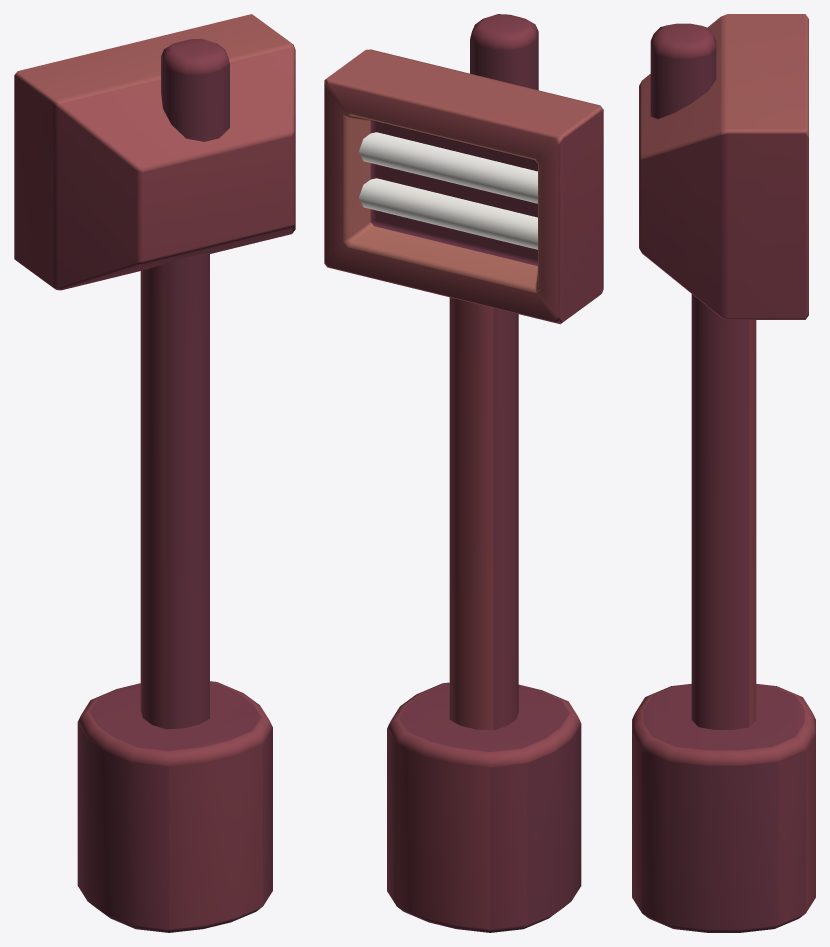
Rendered from Factory_Lamp.fbx.
3 views of the same model, side by side, from view 1: azimuth 30°, elevation 25°; view 2: azimuth 150°, elevation 25°; view 3: azimuth 270°, elevation 25° (orthographic).
Parts seen in each view (by area): view 1: Factory_Lamp; view 2: Factory_Lamp; view 3: Factory_Lamp.
Part boxes in pixels (bbox=[...]): Factory_Lamp: bbox=[14, 14, 295, 932]; Factory_Lamp: bbox=[324, 14, 603, 932]; Factory_Lamp: bbox=[632, 14, 815, 932].
Size of the model in its own units: 62.33 by 213 by 41.11.
